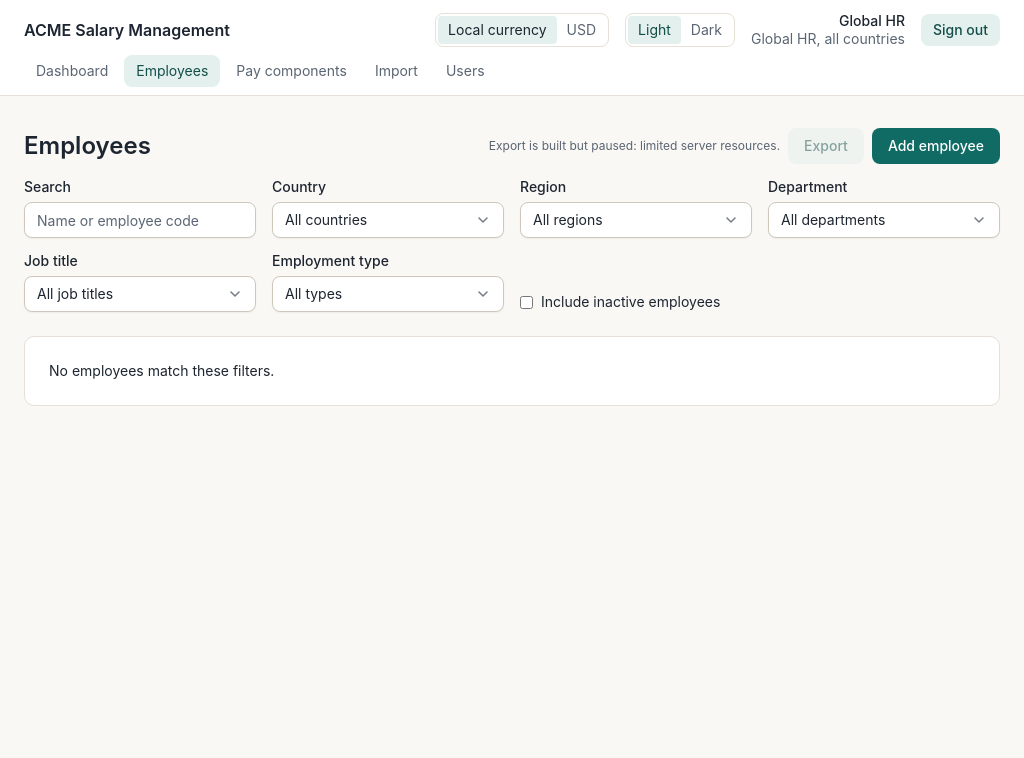
adding an employee › is opened from the directory
Click the link "Add employee".
click(936, 146)  # box [872, 128, 1000, 164]
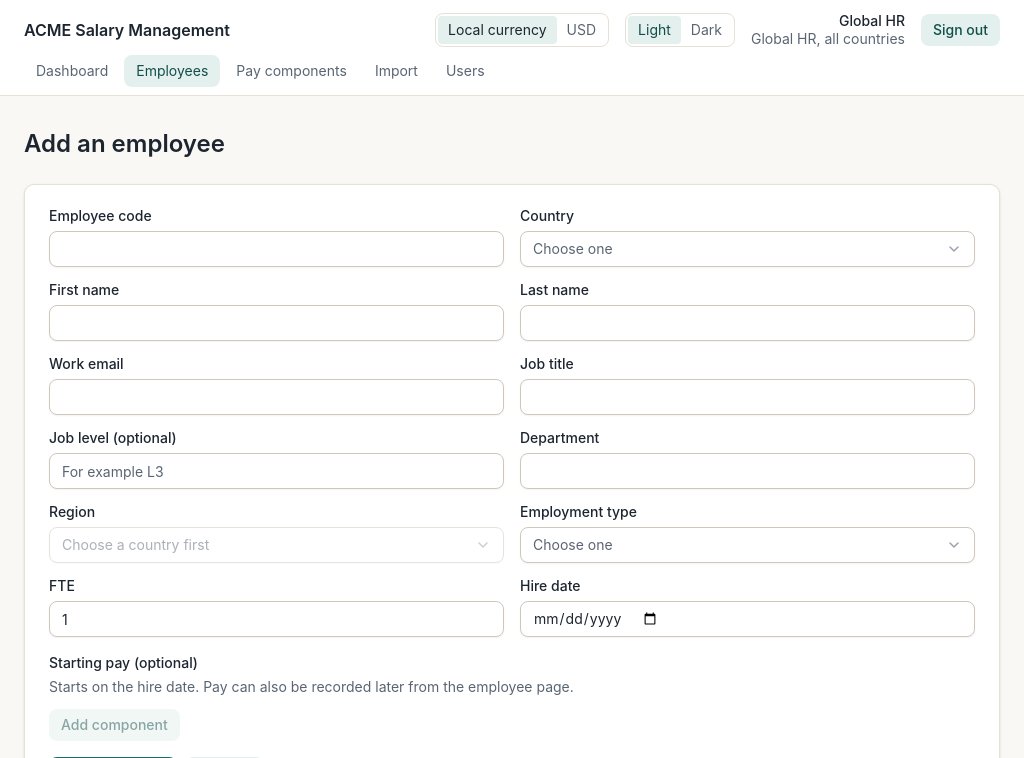
Expected: the heading "Add an employee" is shown, [24, 129, 225, 158]
